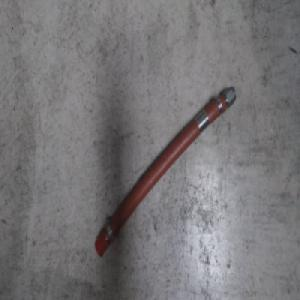Hose: (93, 83, 236, 260)
